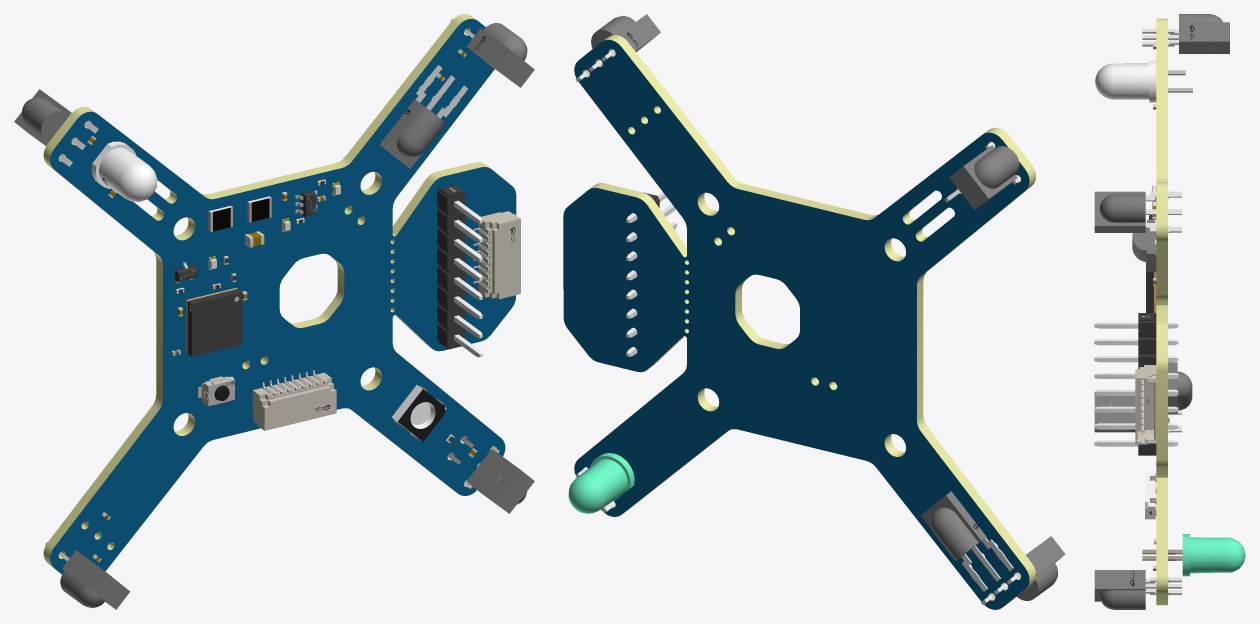
Rendered from PCB_v2.glb.
3 views of the same model, side by side, from view 1: azimuth 30°, elevation 25°; view 2: azimuth 150°, elevation 25°; view 3: azimuth 270°, elevation 25° (orthographic). The views are drawn at different scales.
Parts seen in each view (by area): view 1: Board~H9gE, HDR-TH_8P-P2.54-V-M~HDR-TH_8P-P2.54-V-M~H9gE, CONN-TH_SM08B-SRSS-TB-LF-SN~CONN-SMD_SR1.00-WS-8P~H9gE.001, CONN-TH_SM08B-SRSS-TB-LF-SN~CONN-SMD_SR1.00-WS-8P~H9gE, QFM-59_L7.0-W7.0_TI_CC2651R3SIPAT0MOUR~QFM-59_L7.0-W7.0_TI_C, SENSOR-TG_TSOP38236~SENSOR-TG_TSOP38236~H9gE.003, LED-TH_BD5.8-P2.54-L-RD~LED-TH_BD5.8-P2.54-L-RD~H9gE, SENSOR-TG_TSOP38236~SENSOR-TG_TSOP38236~H9gE.005, SENSOR-TG_TSOP38236~SENSOR-TG_TSOP38236~H9gE, SENSOR-TG_TSOP38236~SENSOR-TG_TSOP38236~H9gE.001, SENSOR-TG_TSOP38236~SENSOR-TG_TSOP38236~H9gE.004, LED-SMD_4P-L5.0-W5.0-TL_WS2812B-B~LED-SMD_4P-L5.0-W5.0-H1.57 (+1 smaller); view 2: Board~H9gE, SENSOR-TG_TSOP38236~SENSOR-TG_TSOP38236~H9gE.002, SENSOR-TG_TSOP38236~SENSOR-TG_TSOP38236~H9gE.004, LED-TH_BD5.9-P2.54-RD~LED-TH_BD5.9-P2.54-RD~H9gE, SENSOR-TG_TSOP38236~SENSOR-TG_TSOP38236~H9gE.005, SENSOR-TG_TSOP38236~SENSOR-TG_TSOP38236~H9gE, HDR-TH_8P-P2.54-V-M~HDR-TH_8P-P2.54-V-M~H9gE; view 3: Board~H9gE, HDR-TH_8P-P2.54-V-M~HDR-TH_8P-P2.54-V-M~H9gE, SENSOR-TG_TSOP38236~SENSOR-TG_TSOP38236~H9gE, LED-TH_BD5.9-P2.54-RD~LED-TH_BD5.9-P2.54-RD~H9gE, LED-TH_BD5.8-P2.54-L-RD~LED-TH_BD5.8-P2.54-L-RD~H9gE, SENSOR-TG_TSOP38236~SENSOR-TG_TSOP38236~H9gE.001, SENSOR-TG_TSOP38236~SENSOR-TG_TSOP38236~H9gE.004, CONN-TH_SM08B-SRSS-TB-LF-SN~CONN-SMD_SR1.00-WS-8P~H9gE, SENSOR-TG_TSOP38236~SENSOR-TG_TSOP38236~H9gE.005, SENSOR-TG_TSOP38236~SENSOR-TG_TSOP38236~H9gE.002, SENSOR-TG_TSOP38236~SENSOR-TG_TSOP38236~H9gE.003, LED-SMD_4P-L5.0-W5.0-TL_WS2812B-B~LED-SMD_4P-L5.0-W5.0-H1.57 (+1 smaller).
Part boxes in pixels (x1,y1,x2,y2): Board~H9gE: (43, 14, 516, 574); HDR-TH_8P-P2.54-V-M~HDR-TH_8P-P2.54-V-M~H9gE: (437, 184, 482, 357); CONN-TH_SM08B-SRSS-TB-LF-SN~CONN-SMD_SR1.00-WS-8P~H9gE.001: (252, 370, 336, 430); CONN-TH_SM08B-SRSS-TB-LF-SN~CONN-SMD_SR1.00-WS-8P~H9gE: (473, 211, 520, 299); QFM-59_L7.0-W7.0_TI_CC2651R3SIPAT0MOUR~QFM-59_L7.0-W7.0_TI_C: (186, 287, 242, 356); SENSOR-TG_TSOP38236~SENSOR-TG_TSOP38236~H9gE.003: (379, 65, 467, 168); LED-TH_BD5.8-P2.54-L-RD~LED-TH_BD5.8-P2.54-L-RD~H9gE: (91, 141, 157, 201); SENSOR-TG_TSOP38236~SENSOR-TG_TSOP38236~H9gE.005: (45, 542, 130, 609); SENSOR-TG_TSOP38236~SENSOR-TG_TSOP38236~H9gE: (450, 18, 534, 87); SENSOR-TG_TSOP38236~SENSOR-TG_TSOP38236~H9gE.001: (464, 446, 534, 513); SENSOR-TG_TSOP38236~SENSOR-TG_TSOP38236~H9gE.004: (14, 89, 98, 166); LED-SMD_4P-L5.0-W5.0-TL_WS2812B-B~LED-SMD_4P-L5.0-W5.0-H1.57: (391, 385, 446, 441); Board~H9gE: (563, 35, 1035, 609); SENSOR-TG_TSOP38236~SENSOR-TG_TSOP38236~H9gE.002: (920, 491, 1013, 591); SENSOR-TG_TSOP38236~SENSOR-TG_TSOP38236~H9gE.004: (949, 142, 1020, 209); LED-TH_BD5.9-P2.54-RD~LED-TH_BD5.9-P2.54-RD~H9gE: (568, 453, 634, 513); SENSOR-TG_TSOP38236~SENSOR-TG_TSOP38236~H9gE.005: (981, 536, 1065, 604); SENSOR-TG_TSOP38236~SENSOR-TG_TSOP38236~H9gE: (575, 14, 660, 81); HDR-TH_8P-P2.54-V-M~HDR-TH_8P-P2.54-V-M~H9gE: (626, 191, 676, 356); Board~H9gE: (1156, 18, 1167, 605); HDR-TH_8P-P2.54-V-M~HDR-TH_8P-P2.54-V-M~H9gE: (1094, 313, 1178, 455); SENSOR-TG_TSOP38236~SENSOR-TG_TSOP38236~H9gE: (1094, 191, 1181, 232); LED-TH_BD5.9-P2.54-RD~LED-TH_BD5.9-P2.54-RD~H9gE: (1142, 534, 1245, 576); LED-TH_BD5.8-P2.54-L-RD~LED-TH_BD5.8-P2.54-L-RD~H9gE: (1095, 60, 1192, 102); SENSOR-TG_TSOP38236~SENSOR-TG_TSOP38236~H9gE.001: (1094, 570, 1181, 609); SENSOR-TG_TSOP38236~SENSOR-TG_TSOP38236~H9gE.004: (1142, 14, 1229, 53); CONN-TH_SM08B-SRSS-TB-LF-SN~CONN-SMD_SR1.00-WS-8P~H9gE: (1135, 365, 1156, 444); SENSOR-TG_TSOP38236~SENSOR-TG_TSOP38236~H9gE.005: (1094, 395, 1181, 432); SENSOR-TG_TSOP38236~SENSOR-TG_TSOP38236~H9gE.002: (1168, 362, 1192, 423); SENSOR-TG_TSOP38236~SENSOR-TG_TSOP38236~H9gE.003: (1132, 219, 1156, 271); LED-SMD_4P-L5.0-W5.0-TL_WS2812B-B~LED-SMD_4P-L5.0-W5.0-H1.57: (1145, 472, 1156, 519).
Bounding box in the file's own units: 0.0649 × 0.0634 × 0.0207.
